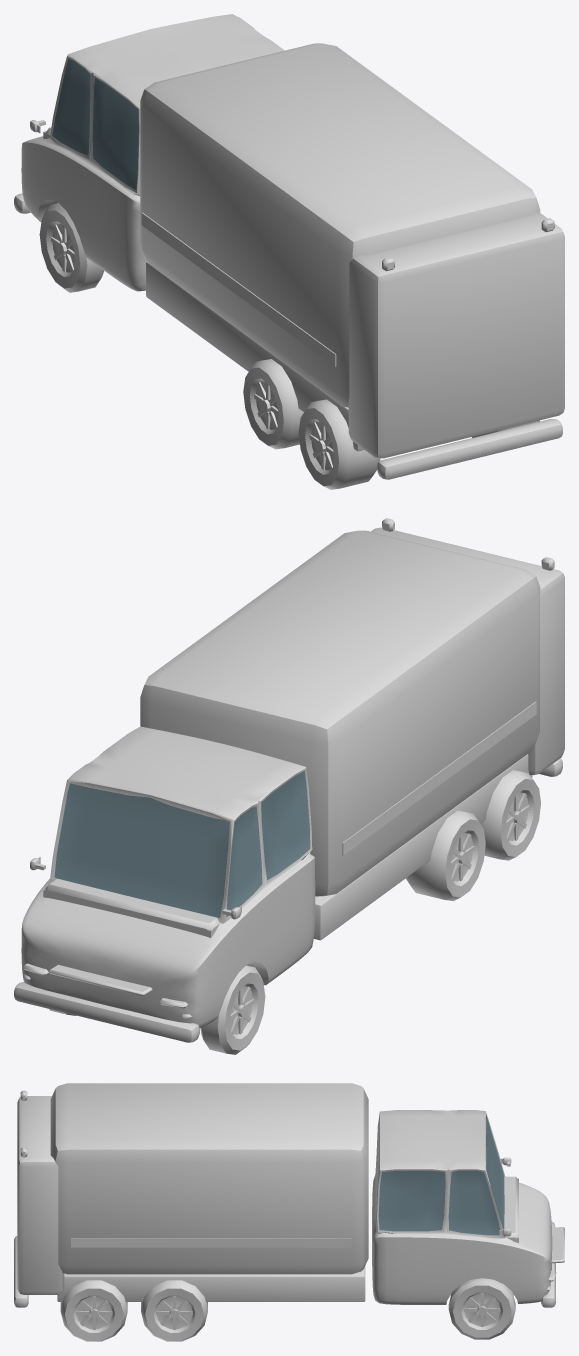
Rendered from car_garbage.glb.
3 renders of one model, top to bottom at view 1: azimuth 30°, elevation 25°; view 2: azimuth 150°, elevation 25°; view 3: azimuth 270°, elevation 25°, orthographic. The views are drawn at different scales.
Parts seen in each view (by area): view 1: car_garbage; view 2: car_garbage; view 3: car_garbage.
Part boxes in pixels (x1,y1,x2,y2): car_garbage: (14, 14, 564, 489); car_garbage: (14, 518, 564, 1054); car_garbage: (14, 1083, 564, 1341).
Bounding box in the file's own units: 2.6 × 3.24 × 8.24.
